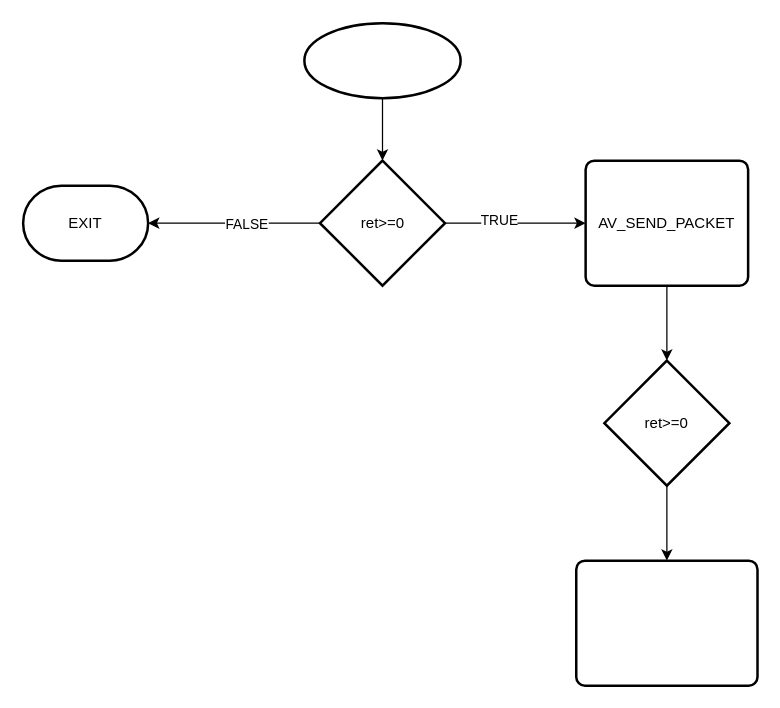
Image size: 780x708. Some labels were removed from this diagram. The centre of each missing label's shape, as x and y in pixels:
"AV_READ_FRAME" goes at (x=381, y=60).
"AV_RECEIVE_FRAME" goes at (x=666, y=622).
